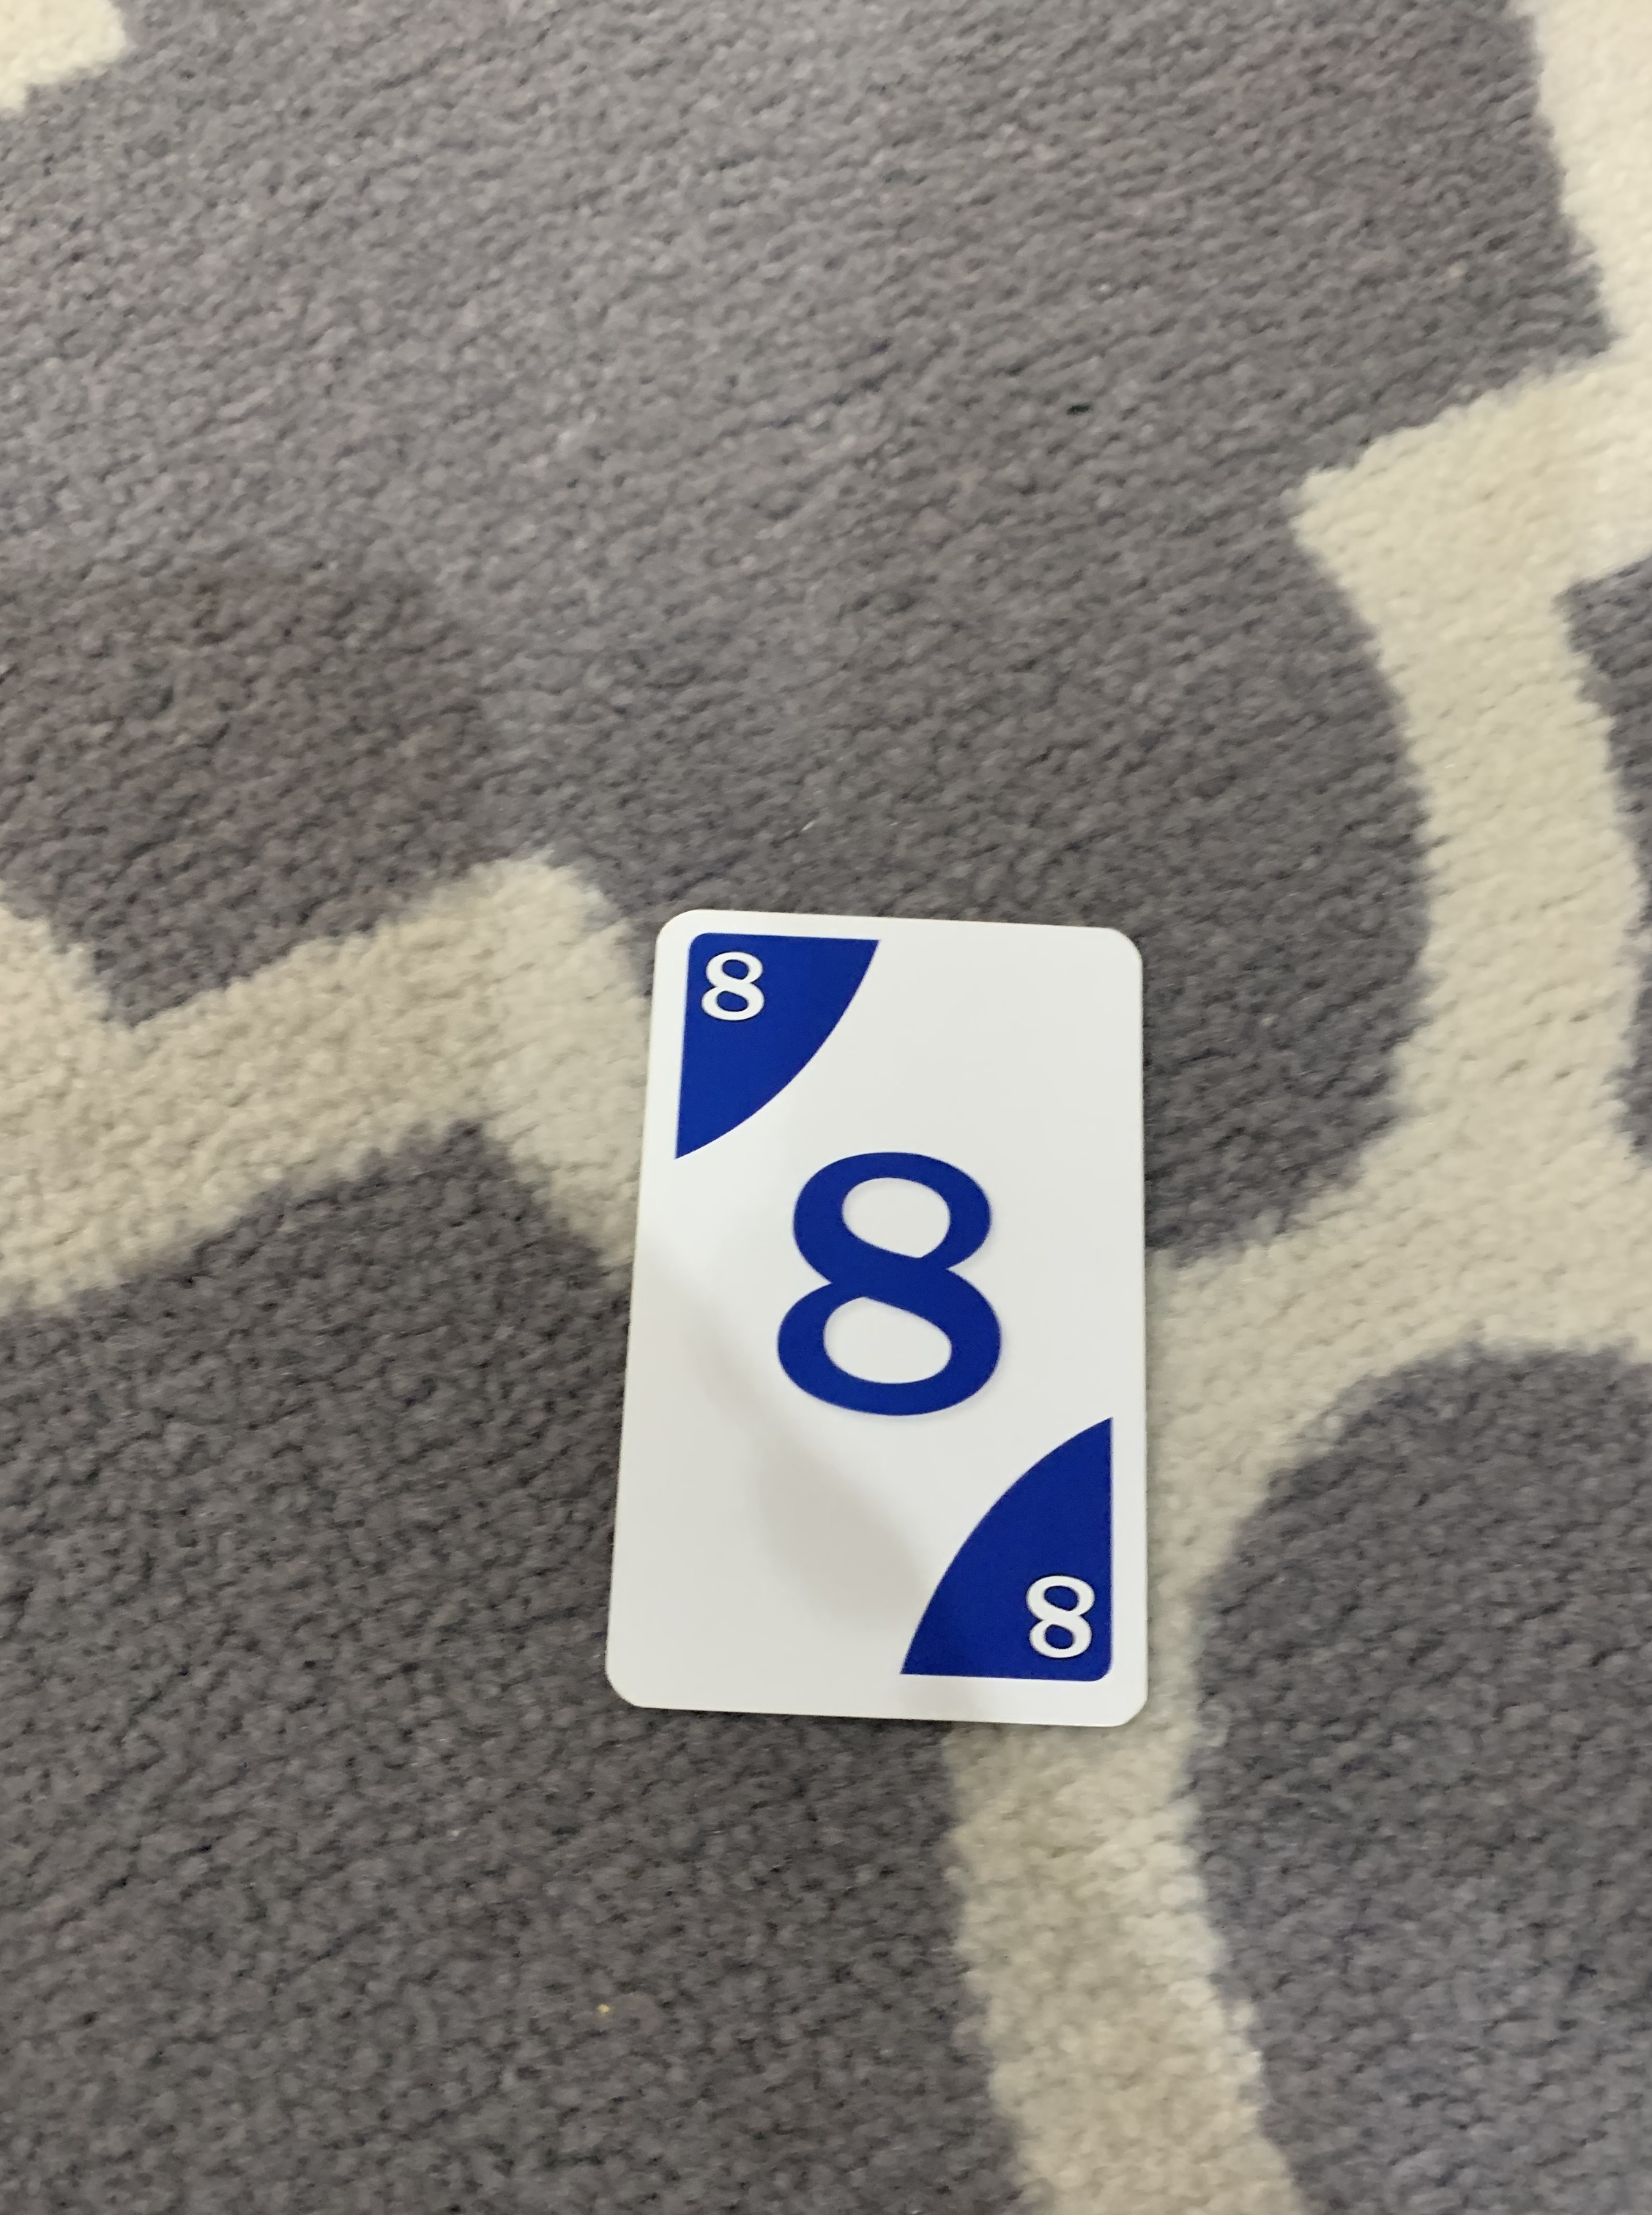eight: (599, 896, 1187, 1755)
